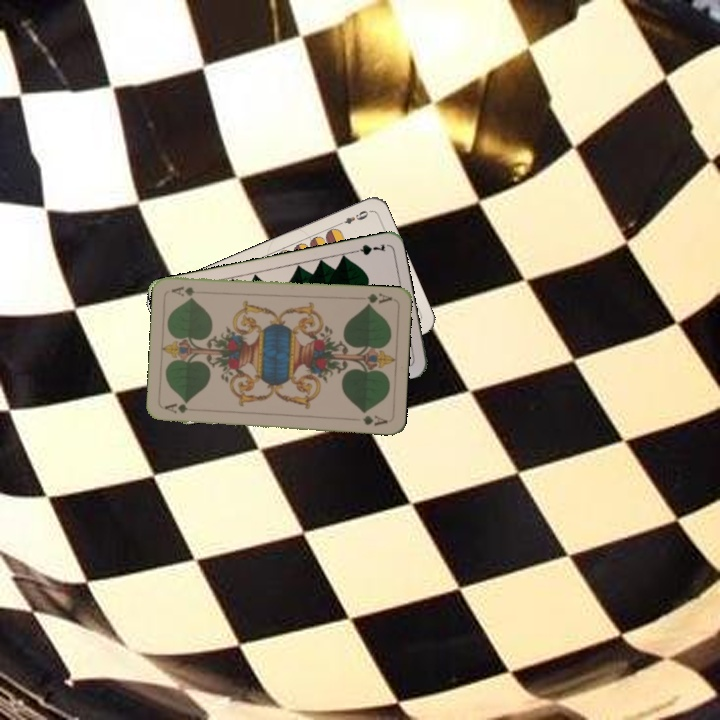E9: (334, 206, 371, 229)
G7: (347, 240, 388, 258)
GA: (161, 399, 201, 416), (363, 289, 394, 308)
